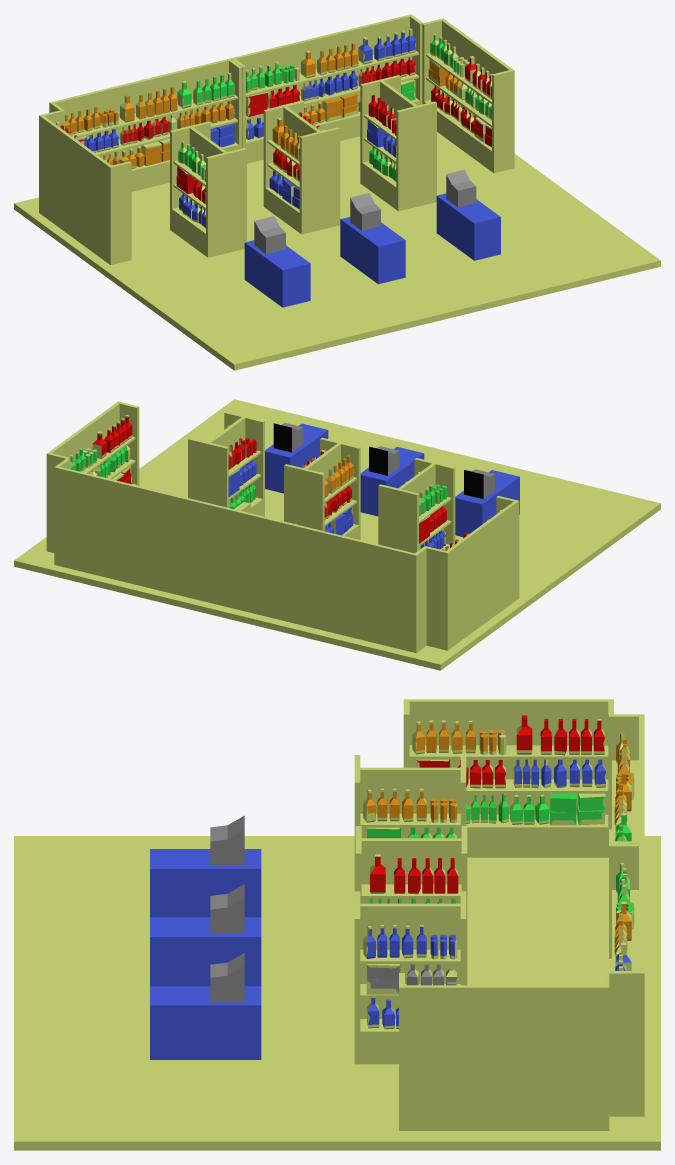
The model's file is Liquor shop.fbx.
3 renders of one model, top to bottom at view 1: azimuth 30°, elevation 25°; view 2: azimuth 150°, elevation 25°; view 3: azimuth 270°, elevation 25°, orthographic. The views are drawn at different scales.
Parts seen in each view (by area): view 1: wine shop; view 2: wine shop; view 3: wine shop.
Part boxes in pixels (box(x1,y1,x2,y2)): wine shop: box(14, 14, 660, 370); wine shop: box(14, 399, 660, 670); wine shop: box(14, 699, 660, 1150).
Bounding box in the file's own units: 1464 × 345 × 1310.
